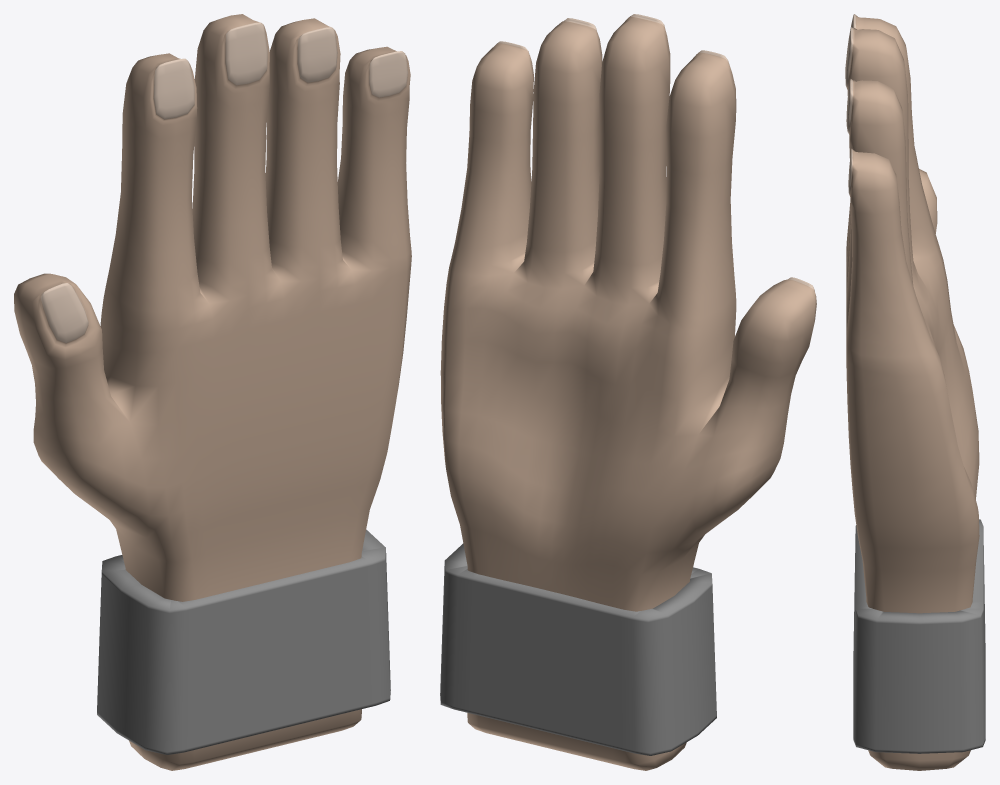
Rendered from rightHand.fbx.
3 views of the same model, side by side, from view 1: azimuth 30°, elevation 25°; view 2: azimuth 150°, elevation 25°; view 3: azimuth 270°, elevation 25° (orthographic). The views are drawn at different scales.
Visible parts, largest first — view 1: rightHand, rightShackel; view 2: rightHand, rightShackel; view 3: rightHand, rightShackel.
Boxes of the visible parts, x1=… form: rightHand: x1=14, y1=14, x2=411, y2=770; rightShackel: x1=97, y1=529, x2=390, y2=754; rightHand: x1=440, y1=14, x2=816, y2=770; rightShackel: x1=440, y1=543, x2=716, y2=755; rightHand: x1=845, y1=14, x2=979, y2=770; rightShackel: x1=853, y1=519, x2=985, y2=753.
Size of the model in its own units: 2.6 by 0.9365 by 5.02.
2 materials, 1 textured.
